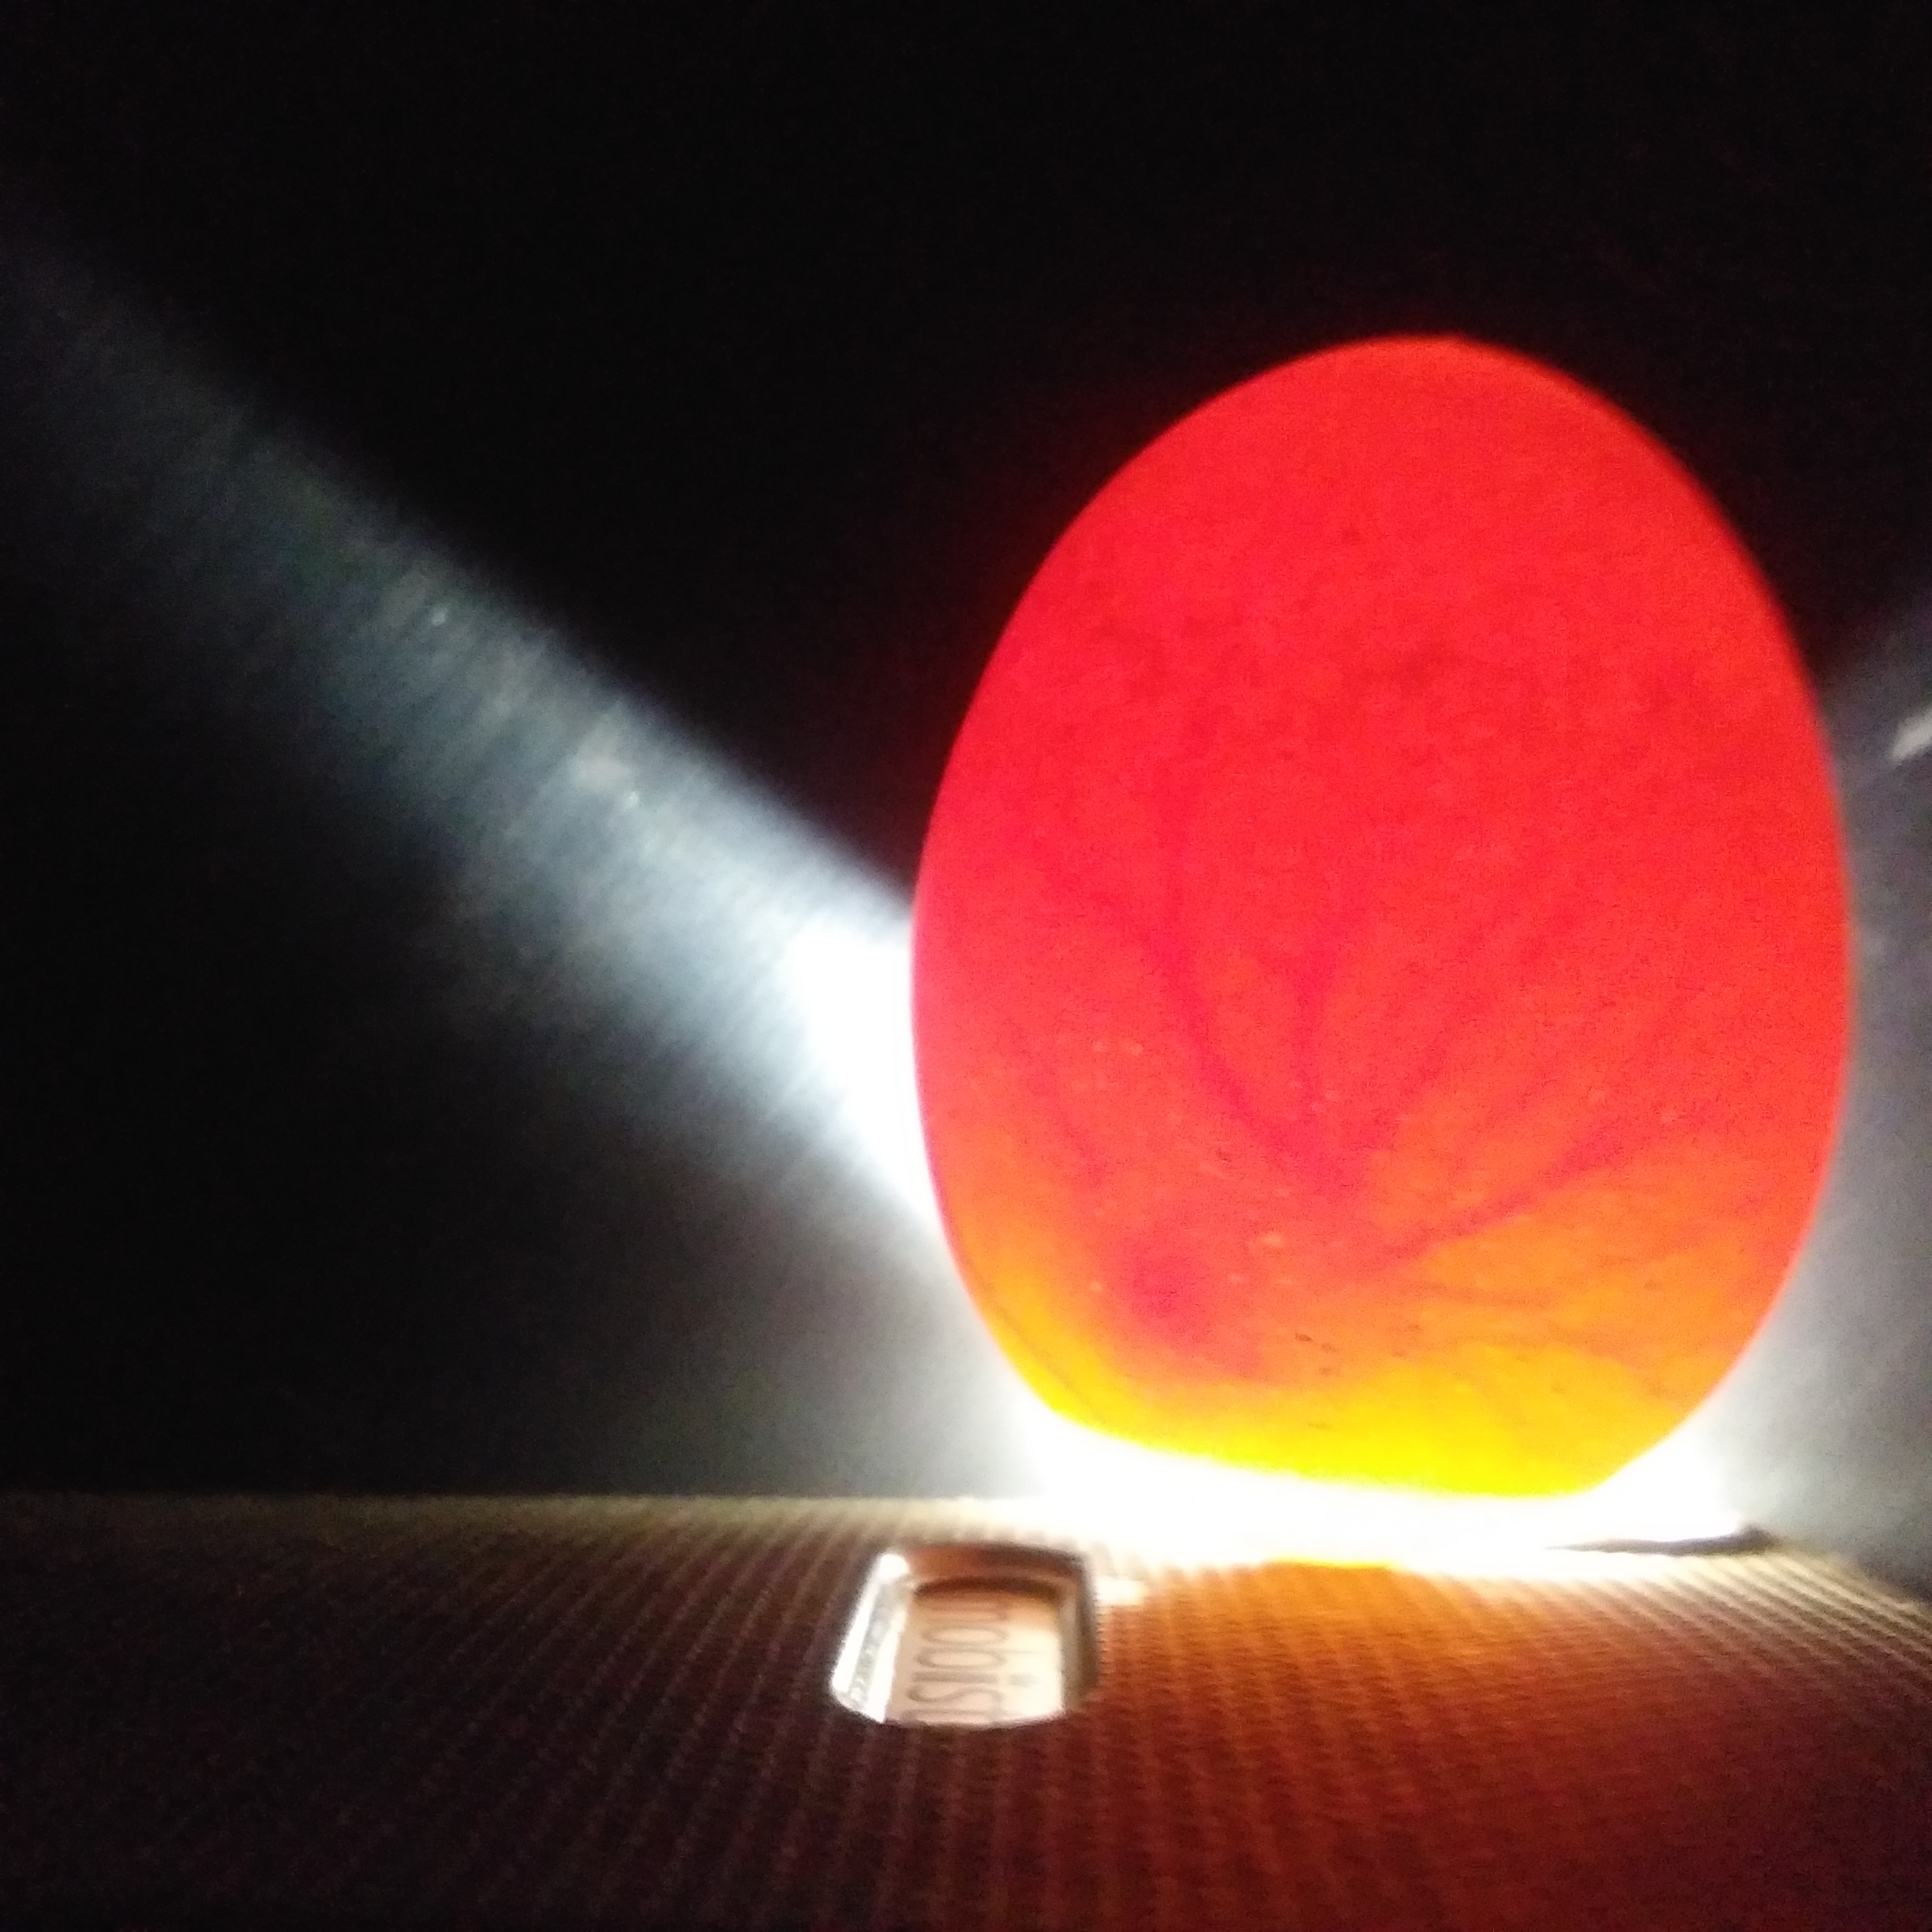bloodcell: (1169, 962, 1652, 1207)
embryo: (1095, 1274, 1316, 1369)
